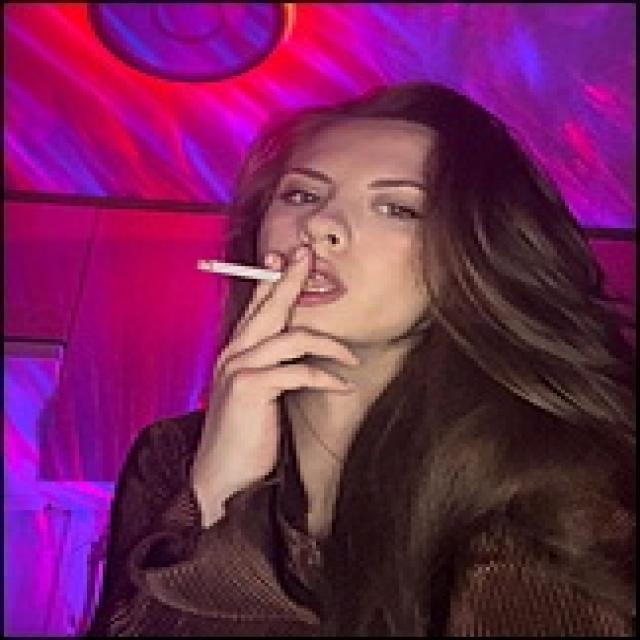rokok: (196, 260, 286, 280)
